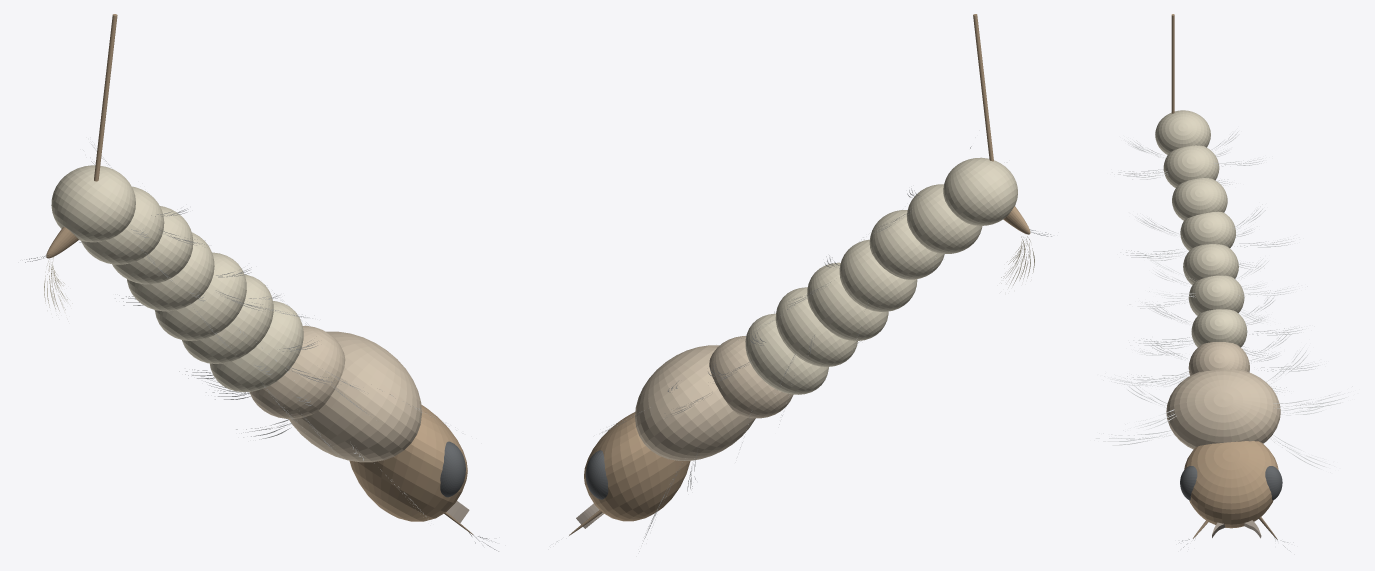
File: culex.glb
3 views of the same model, side by side, from view 1: azimuth 30°, elevation 25°; view 2: azimuth 150°, elevation 25°; view 3: azimuth 270°, elevation 25° (orthographic). The views are drawn at different scales.
Parts seen in each view (by area): view 1: Mesh_Mesh_head_geo.001_lambert2SG.001; view 2: Mesh_Mesh_head_geo.001_lambert2SG.001; view 3: Mesh_Mesh_head_geo.001_lambert2SG.001.
Part boxes in pixels (left/top/right/bottom): Mesh_Mesh_head_geo.001_lambert2SG.001: left=25, top=14, right=498, bottom=551; Mesh_Mesh_head_geo.001_lambert2SG.001: left=557, top=14, right=1051, bottom=551; Mesh_Mesh_head_geo.001_lambert2SG.001: left=1094, top=14, right=1348, bottom=551.
Size of the model in its own units: 120 by 148 by 87.78.
